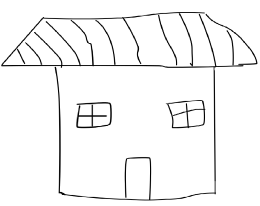big_house: (0, 1, 260, 206)
closed_window: (161, 95, 210, 131), (71, 97, 118, 132)
door: (117, 153, 160, 203)
roof: (2, 8, 258, 77)
wall: (49, 60, 225, 202)
